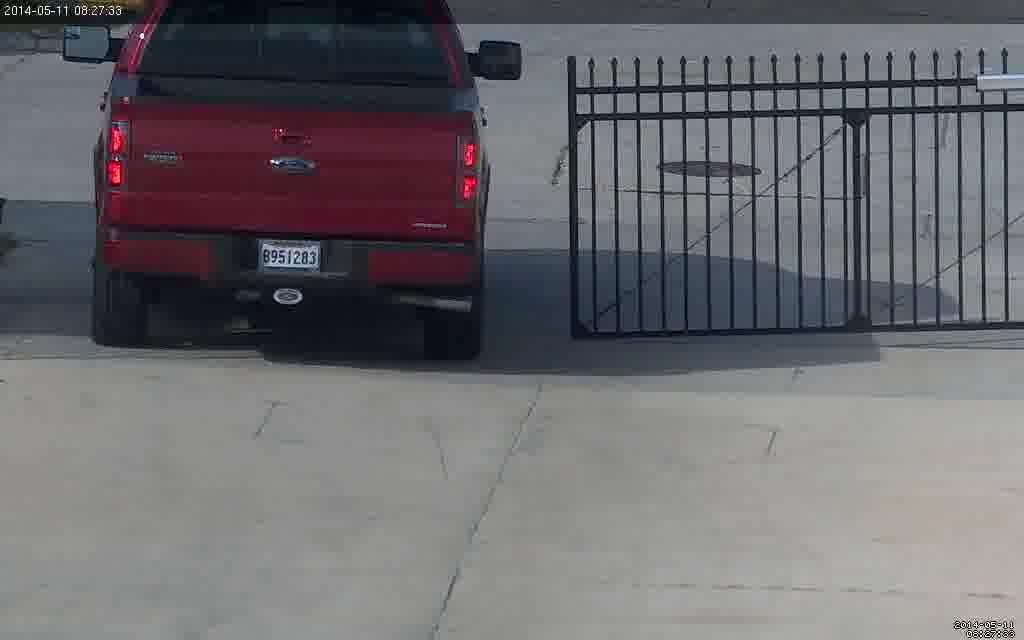placa de veiculo: (241, 229, 350, 284)
